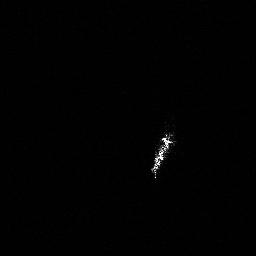ship: (147, 131, 176, 180)
